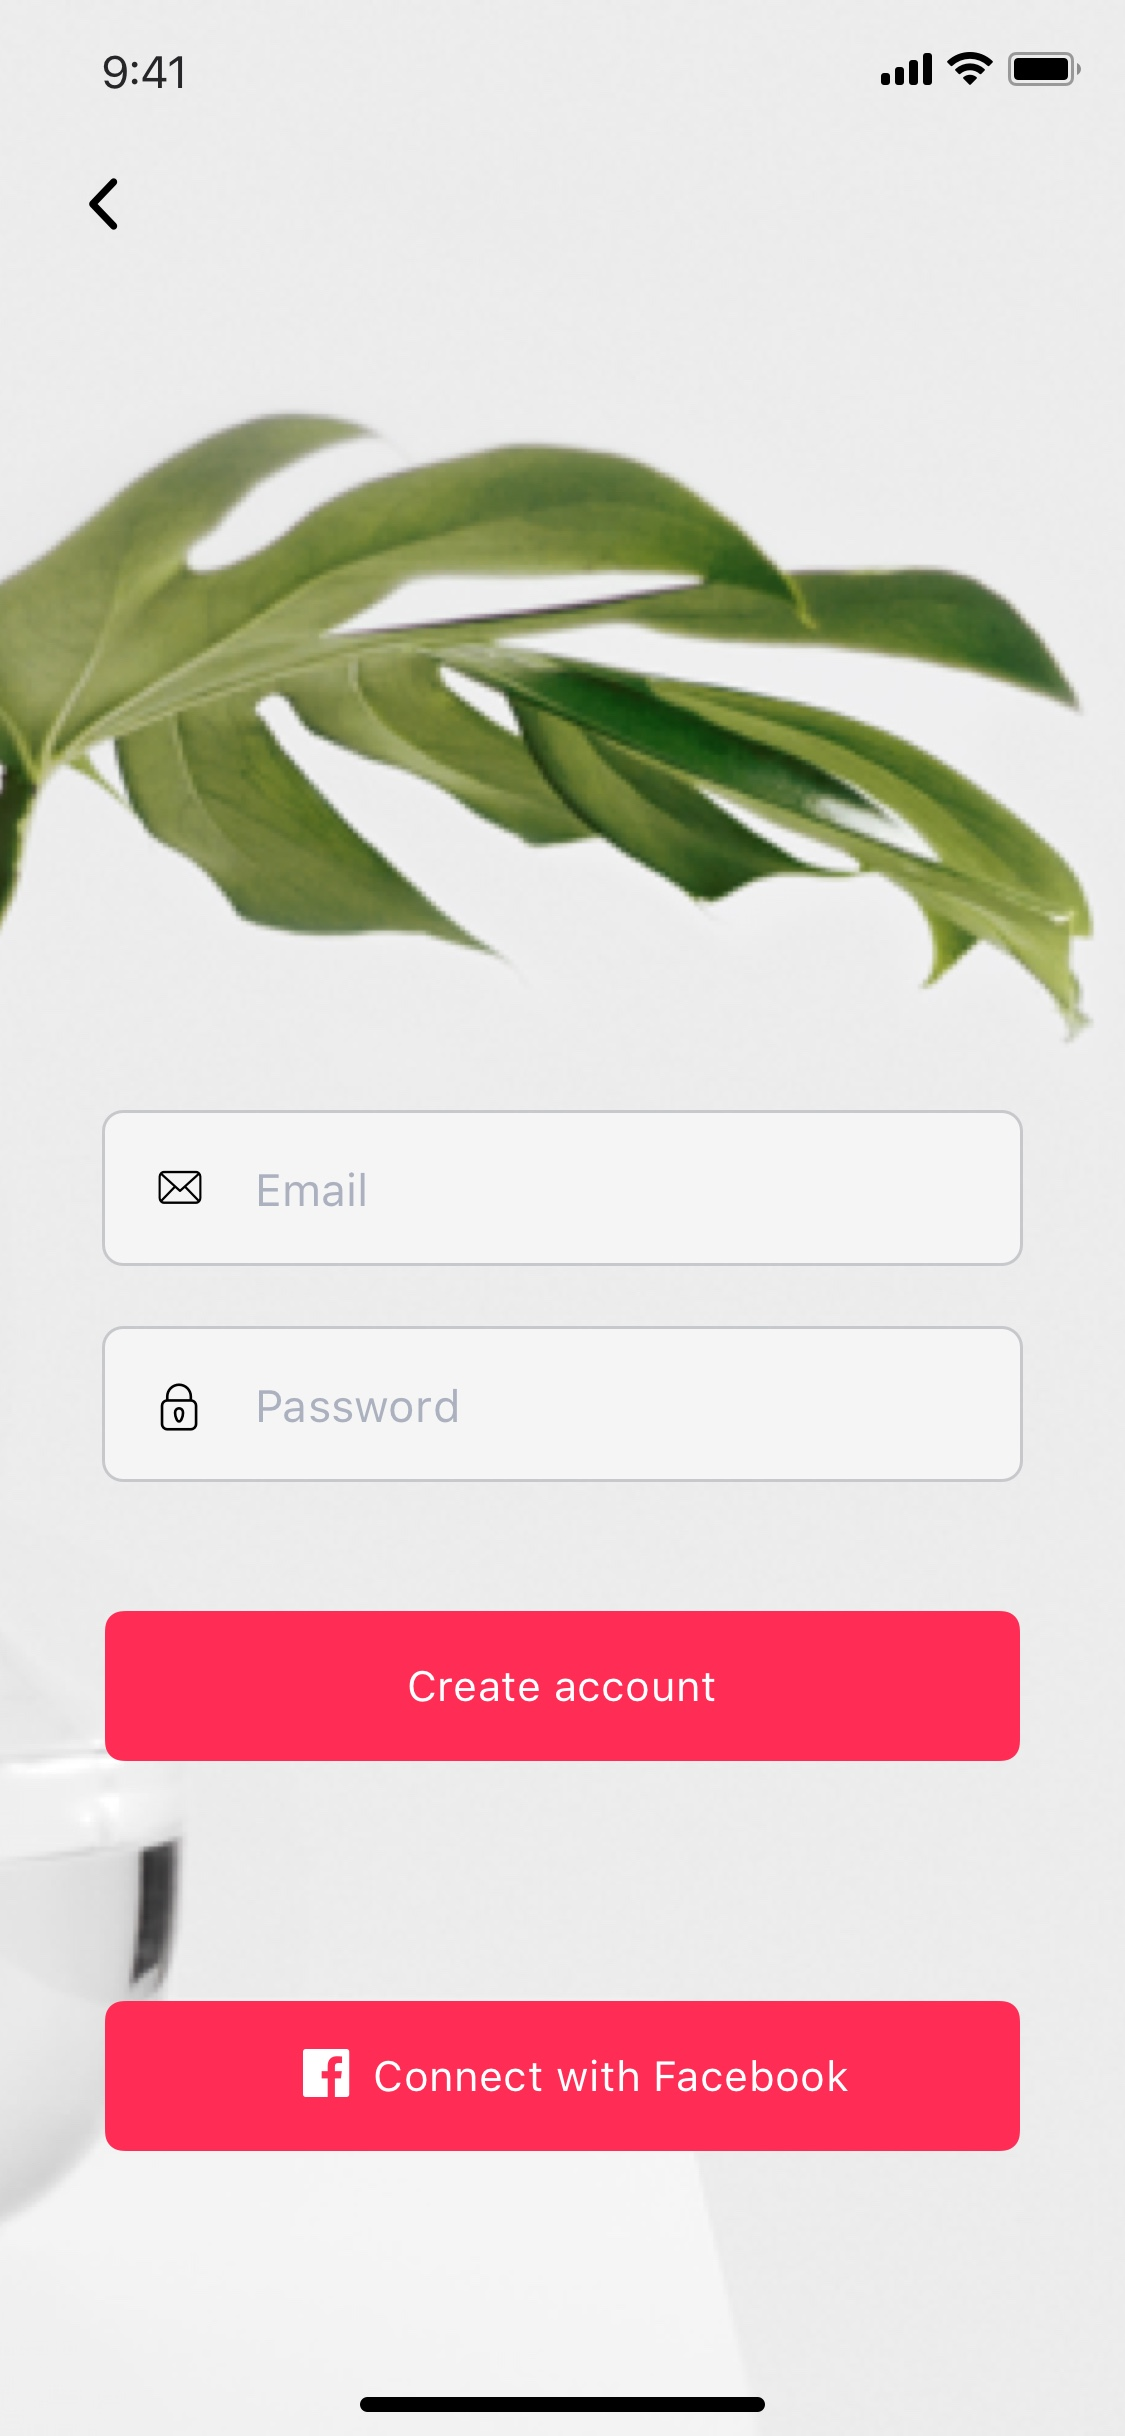BackgroundImage: (2, 2, 1125, 2436)
EditText: (103, 1109, 1024, 1268), (103, 1327, 1024, 1484)
Icon: (162, 1383, 199, 1432), (89, 177, 120, 231), (158, 1171, 204, 1206)
Image: (2, 412, 1095, 1049)
Text: (259, 1387, 458, 1423), (259, 1171, 367, 1209)
TextButton: (106, 1999, 1021, 2152), (106, 1611, 1021, 1762)
UpperTaskBar: (104, 51, 1081, 92)
